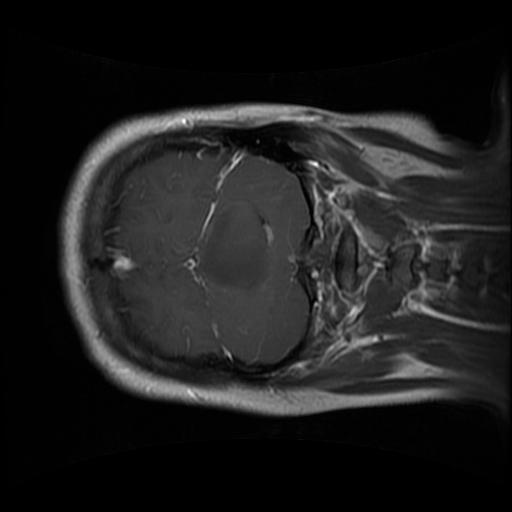glioma: (195, 212, 271, 295)
